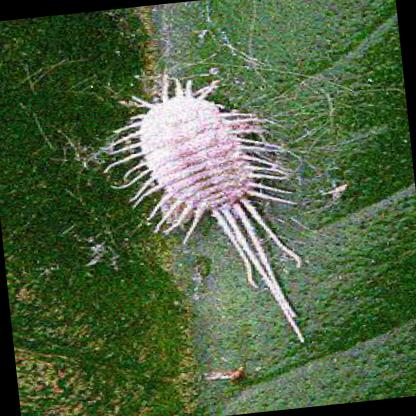mealy bug: (115, 75, 294, 319)
